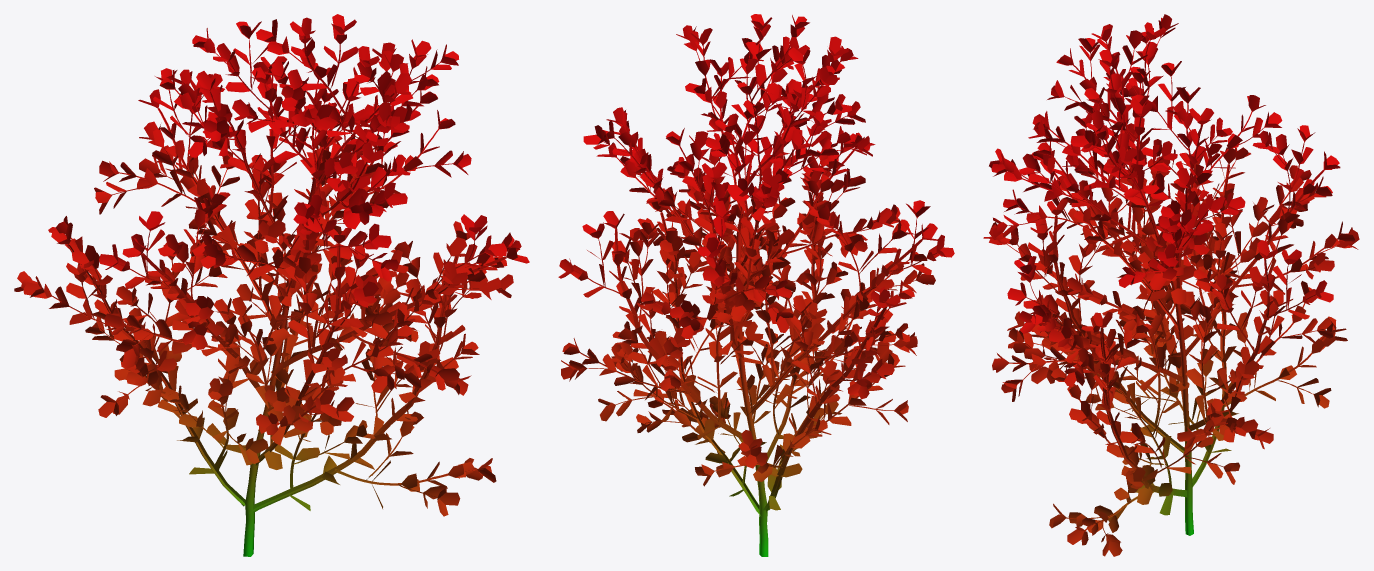
The model's file is Var1_LOD3.fbx.
3 renders of one model, left to right at view 1: azimuth 30°, elevation 25°; view 2: azimuth 150°, elevation 25°; view 3: azimuth 270°, elevation 25°, orthographic. The views are drawn at different scales.
Parts seen in each view (by area): view 1: _ke5q_Var1_LOD3; view 2: _ke5q_Var1_LOD3; view 3: _ke5q_Var1_LOD3.
Boxes of the visible parts, x1,y1,x2,y2 form: _ke5q_Var1_LOD3: [14, 14, 529, 556]; _ke5q_Var1_LOD3: [558, 14, 954, 556]; _ke5q_Var1_LOD3: [983, 14, 1359, 556].
Bounding box in the file's own units: 48.37 × 68.79 × 45.86.
